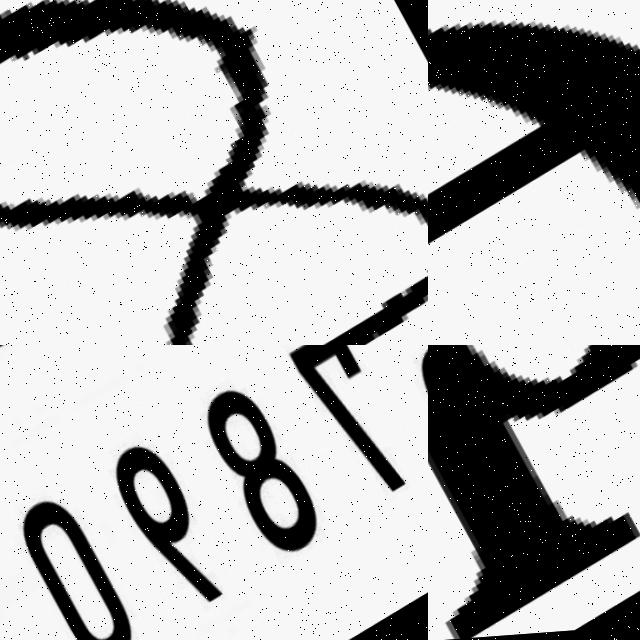0: (0, 467, 160, 640)
6: (344, 345, 428, 485)
7: (263, 345, 425, 527)
8: (0, 0, 428, 345), (176, 354, 341, 587)
9: (85, 410, 248, 640)
E: (428, 28, 640, 250)
Q: (428, 345, 640, 640)
